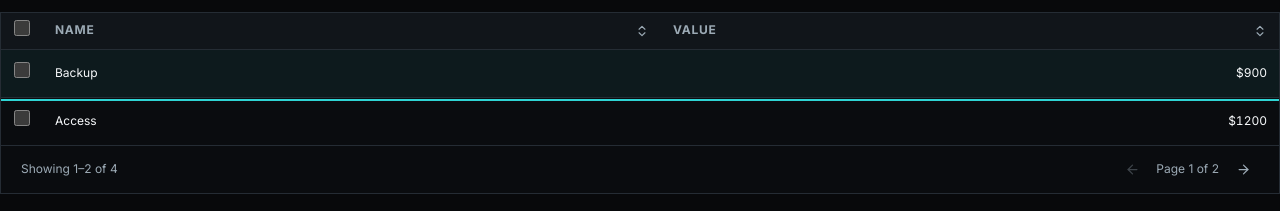
BfDataTable › activates rows by keyboard and keeps pagination outside the scroller
Press Enter
Click the button named "Next page".
click(1243, 170)  # box [1227,154,1259,186]
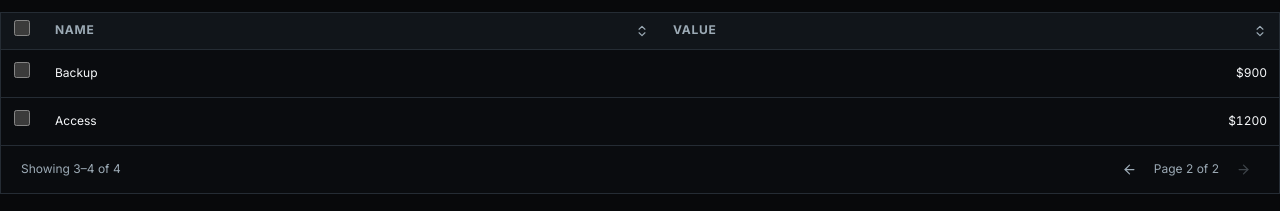
Expected: the text "Page 2 of 2" is shown, [1154,160,1219,179]
